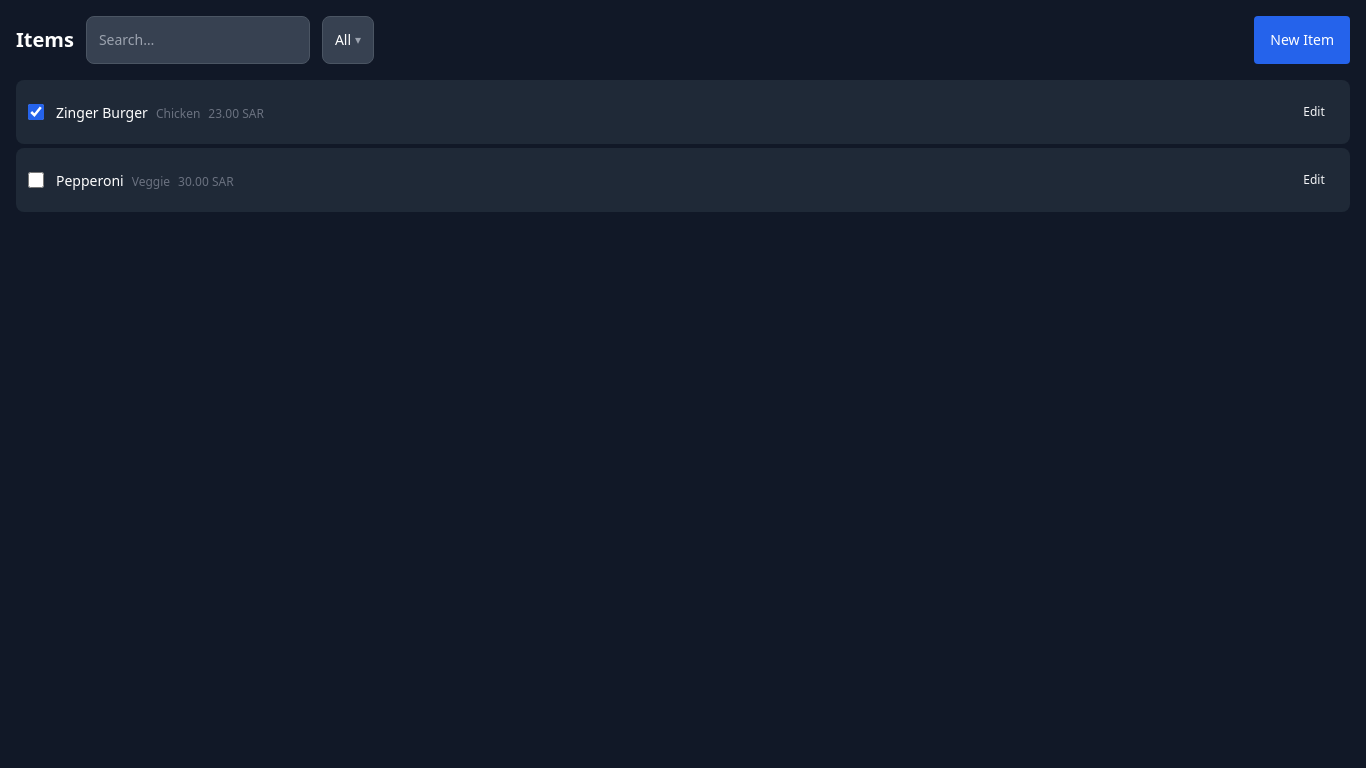
Test: ItemsPage › opens New Item primed from the first category, Active checked
Check: the heading "Items" is shown, box [16, 26, 74, 54]
Step 1. Click the button "New Item" → (1302, 40), box [1254, 16, 1350, 64]
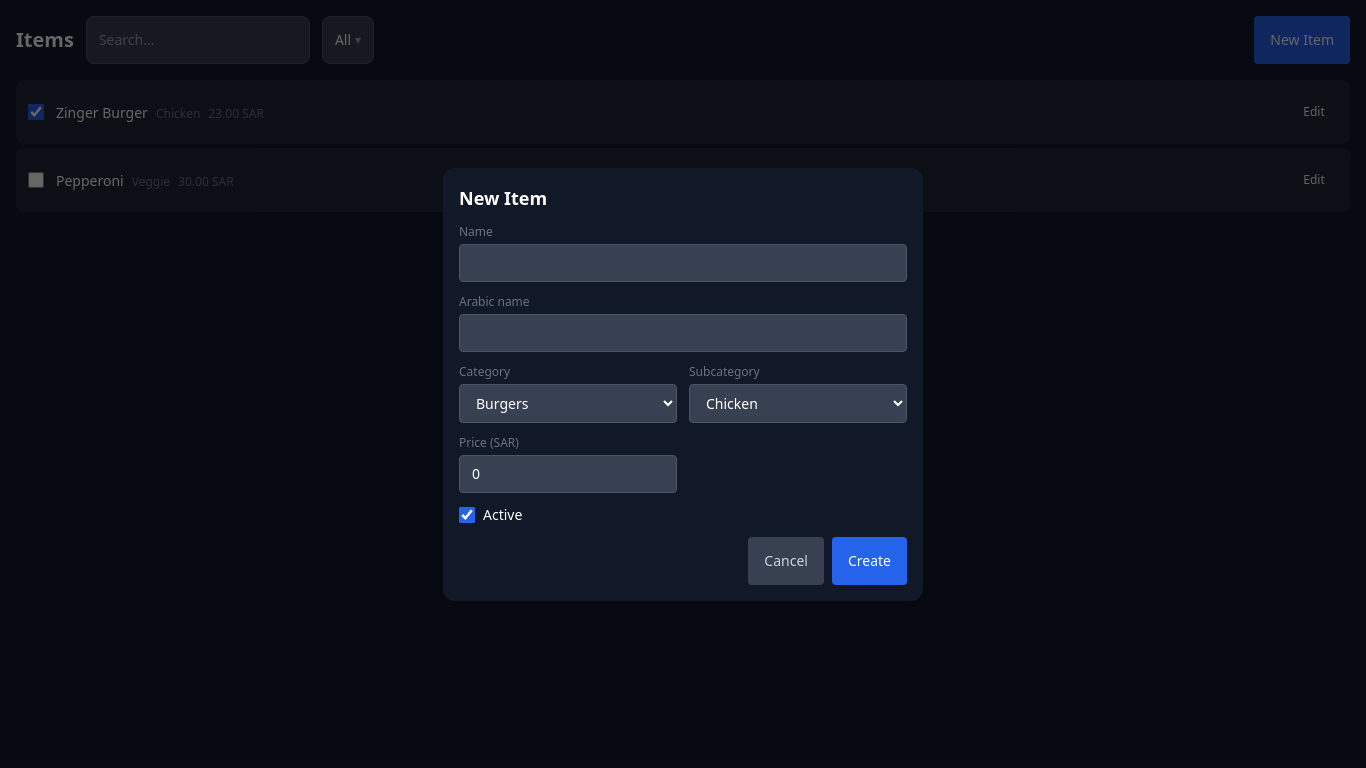
Check: the heading "New Item" is shown, box [459, 186, 547, 210]
Check: the dropdown labelled "Category" shows "Burgers", box [459, 384, 677, 422]
Check: the dropdown labelled "Subcategory" shows "Chicken", box [689, 384, 907, 422]
